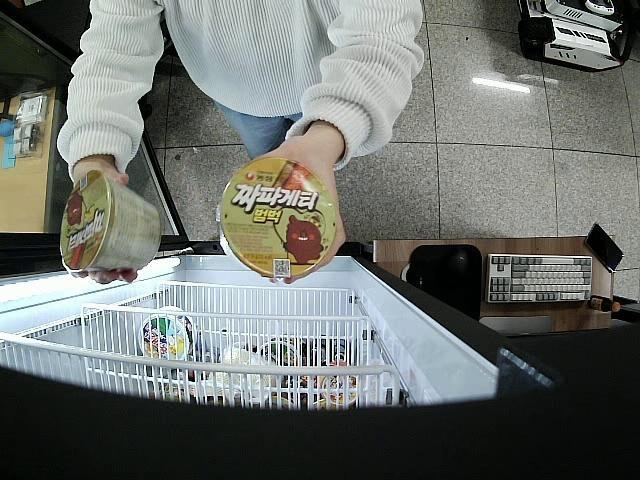04_chapagetti_S: (217, 158, 334, 279), (61, 170, 164, 274)
